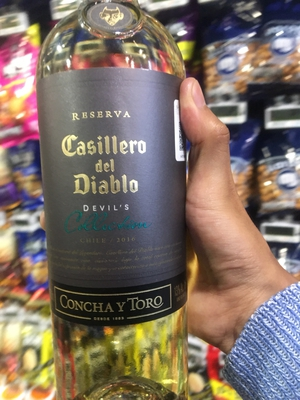casillero del diablo devils collection verde: (33, 16, 191, 398)
